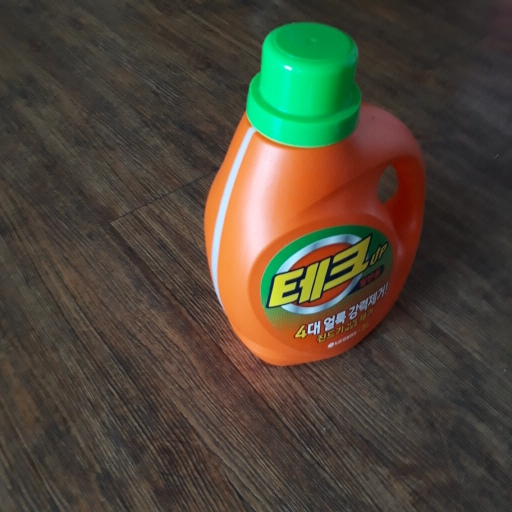Plastic_1: (204, 25, 426, 367)
